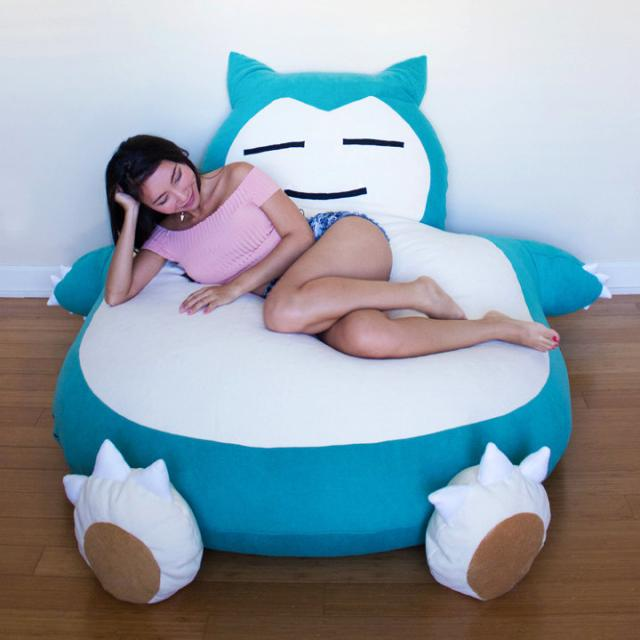Snorlax: (84, 62, 546, 557)
